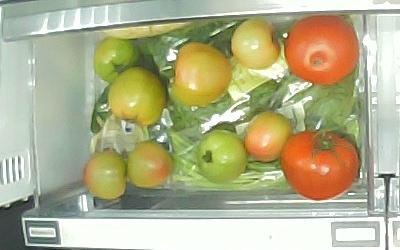tomato: (281, 131, 360, 201), (285, 16, 358, 84), (175, 42, 233, 104), (108, 67, 167, 126), (197, 129, 247, 183), (231, 18, 282, 70), (245, 112, 292, 162), (94, 37, 142, 84), (127, 141, 174, 187), (83, 151, 127, 199)
